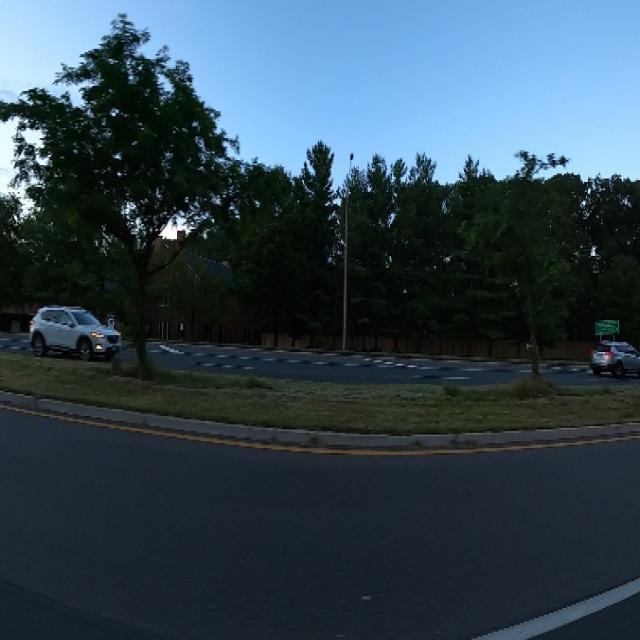cars: (25, 300, 123, 364), (589, 325, 640, 384)
